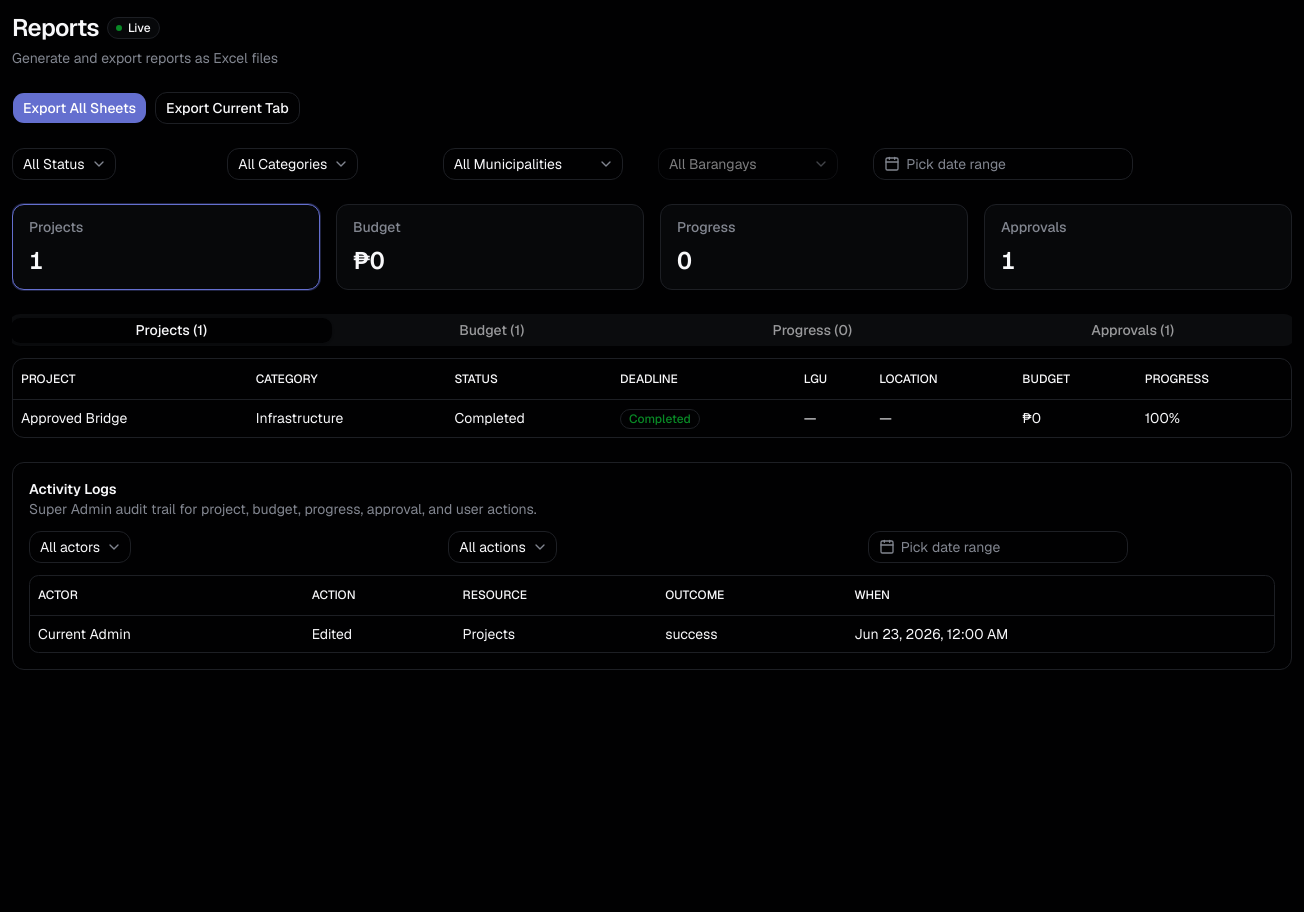
ReportsModule (V12) › should keep Super Admin Approved By names when the users list succeeds
Click the tab "Approvals (1)": {"x": 1132, "y": 330} [972,318,1292,342]
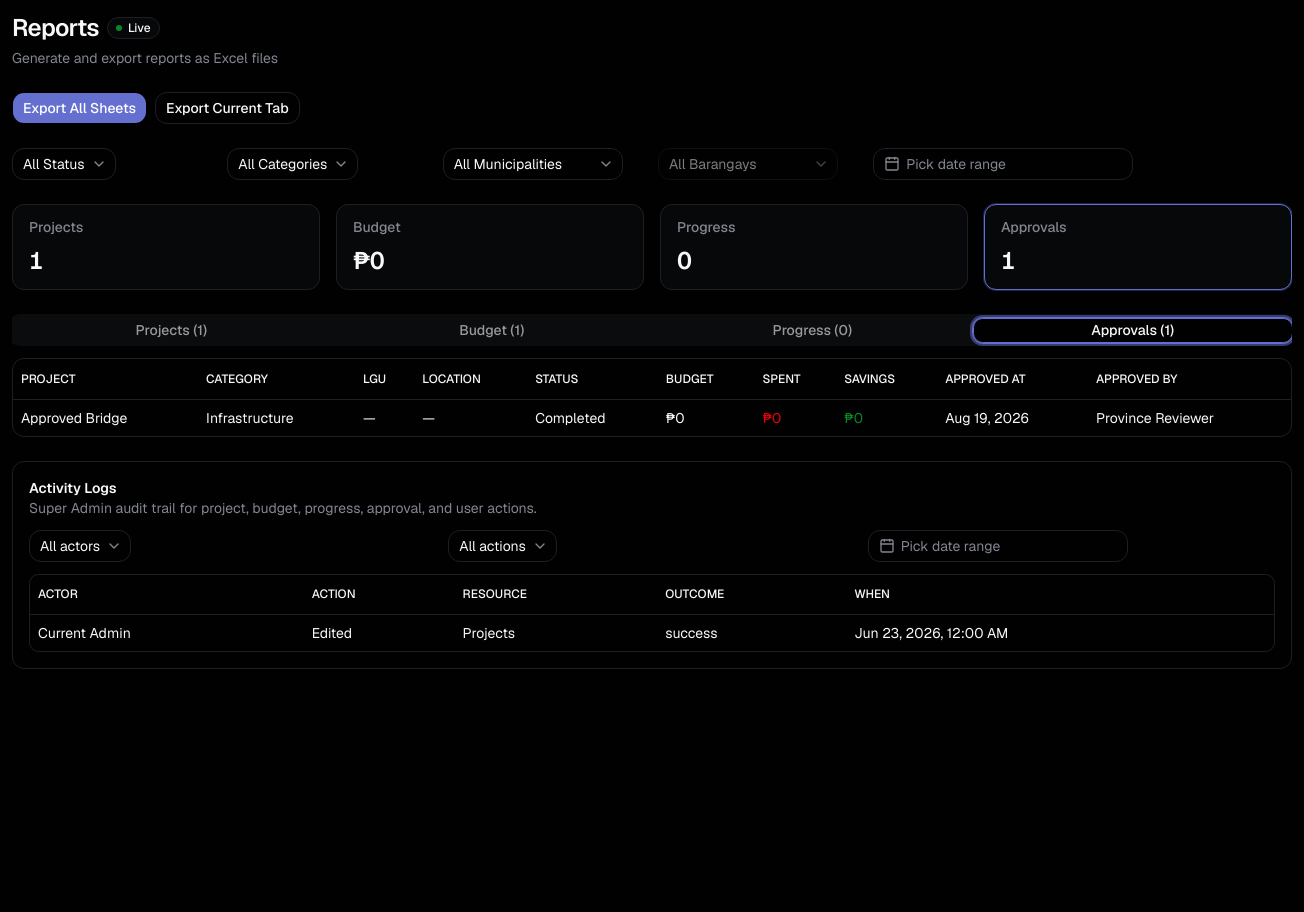
Result: the text "Province Reviewer" is shown at [1088,399,1291,436]
